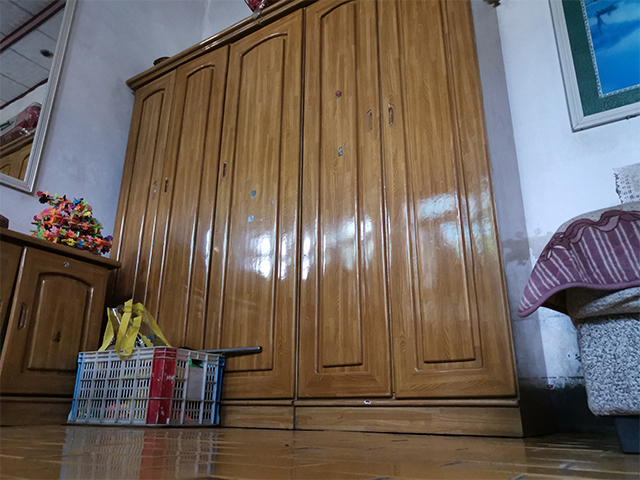cabinet: (98, 1, 561, 439), (1, 216, 123, 428)
